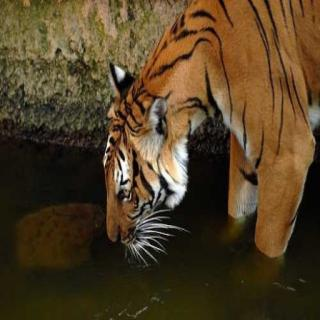Tiger: (54, 5, 320, 277)
